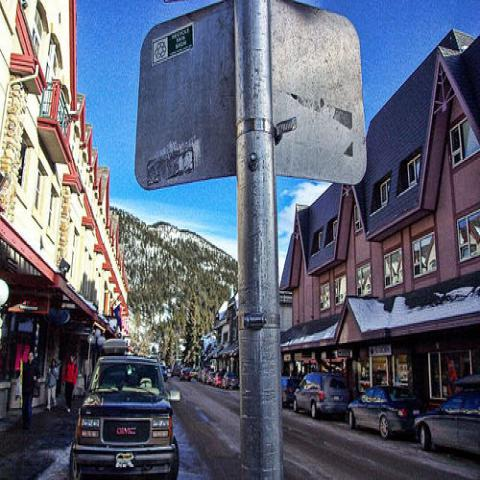car: (414, 387, 479, 459), (347, 385, 426, 441), (294, 373, 350, 420), (282, 376, 302, 408), (221, 372, 238, 390), (212, 372, 224, 387), (179, 369, 192, 382), (206, 371, 215, 384)
truck: (69, 354, 179, 471)
